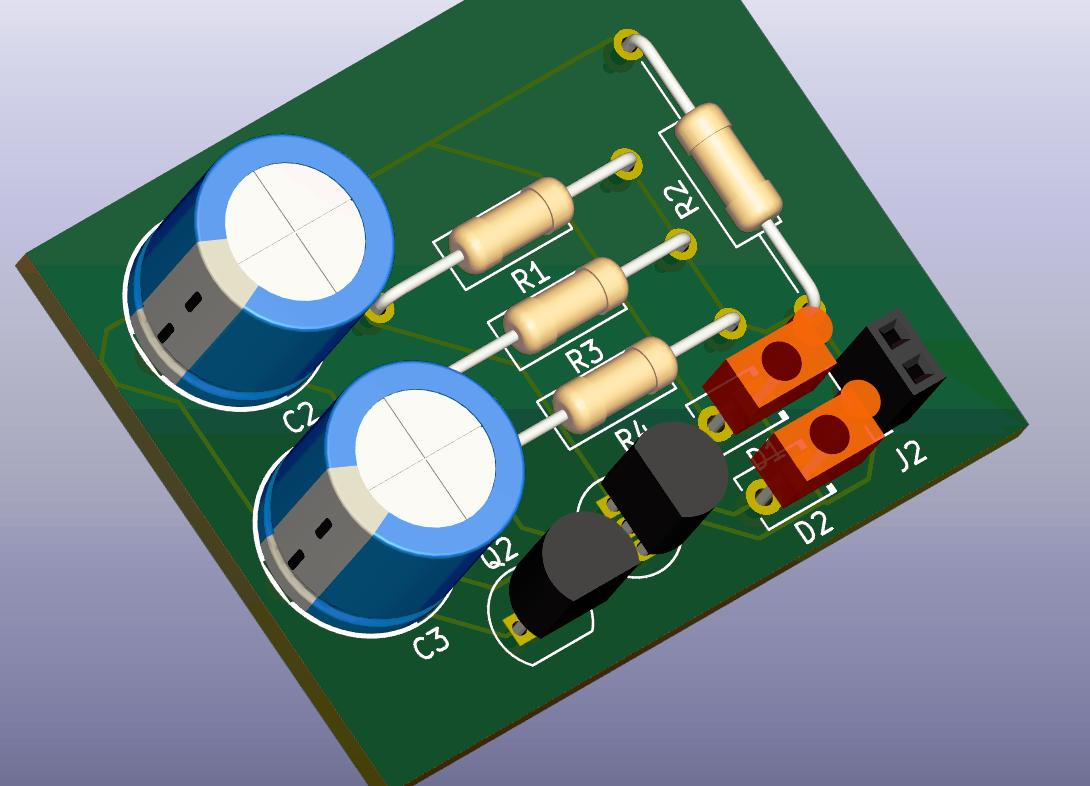capacitor: (127, 134, 399, 406), (258, 361, 526, 633)
diode_smd_orange: (745, 374, 892, 524), (706, 303, 853, 452)
resistor: (671, 92, 786, 246), (552, 330, 682, 435), (501, 254, 630, 355), (448, 174, 576, 275)
transistor: (597, 419, 721, 555), (510, 512, 639, 642)
